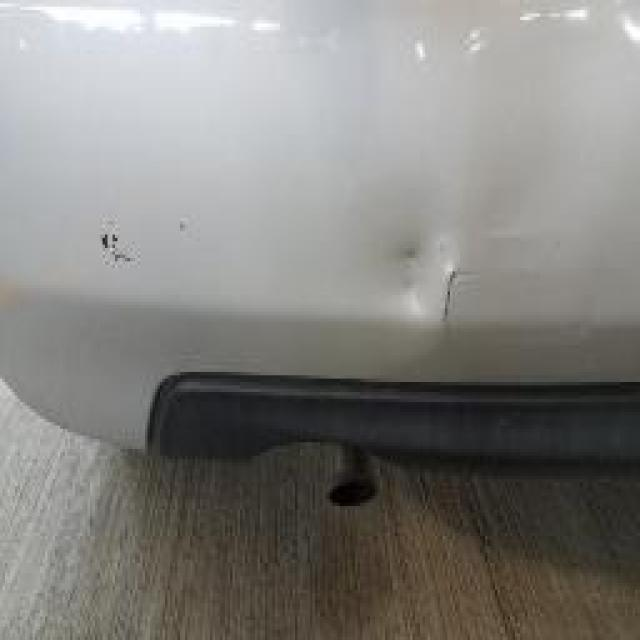Bumper: (72, 178, 498, 409)
